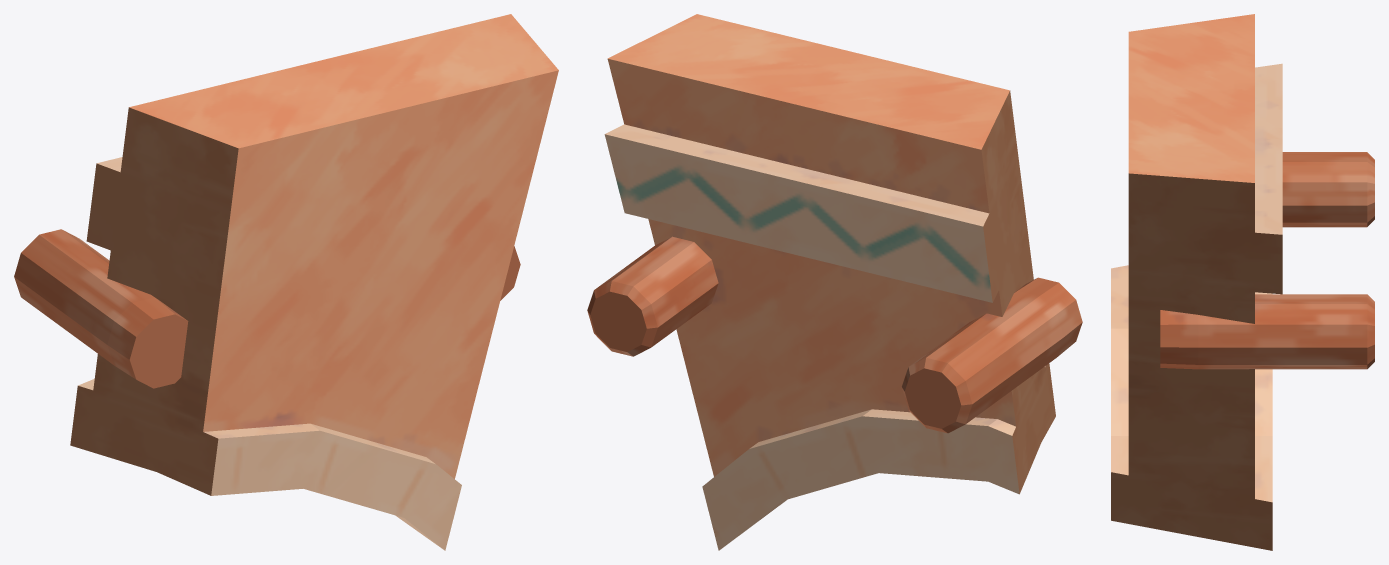
File: wall2_arcade_s08.fbx
The picture shows the model from 3 angles, left to right: view 1: azimuth 30°, elevation 25°; view 2: azimuth 150°, elevation 25°; view 3: azimuth 270°, elevation 25°; orthographic projection. The views are drawn at different scales.
Visible parts, largest first — view 1: wall2_arcade_s08; view 2: wall2_arcade_s08; view 3: wall2_arcade_s08.
Part boxes in pixels (bbox=[...]): wall2_arcade_s08: bbox=[14, 14, 558, 550]; wall2_arcade_s08: bbox=[587, 14, 1082, 550]; wall2_arcade_s08: bbox=[1111, 14, 1374, 550].
Size of the model in its own units: 3.61 by 3.69 by 2.09.
